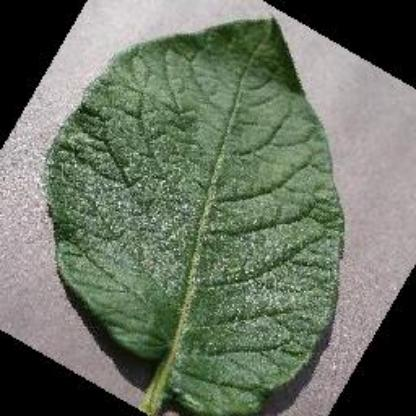Healthy-plant: (37, 11, 337, 415)
